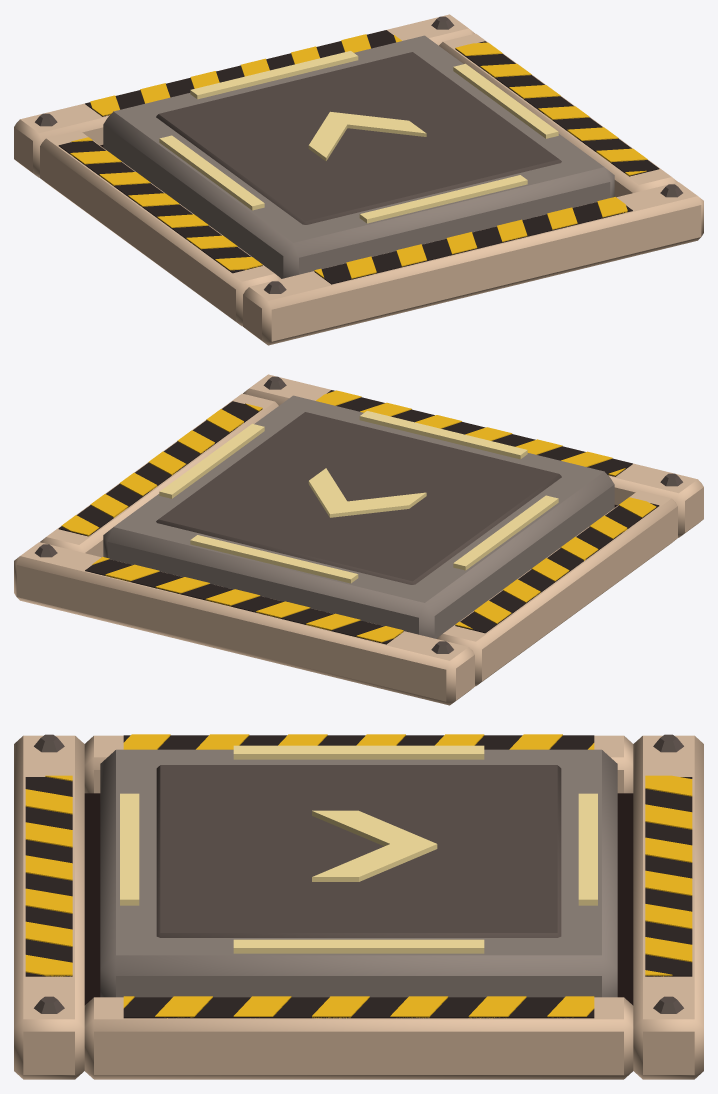
File: plate__upper.glb
3 views of the same model, one above another, from view 1: azimuth 30°, elevation 25°; view 2: azimuth 150°, elevation 25°; view 3: azimuth 270°, elevation 25° (orthographic). The views are drawn at different scales.
Visible parts, largest first — view 1: Pad, Base; view 2: Pad, Base; view 3: Pad, Base.
Boxes of the visible parts, box(x1,y1,x2,y2) form: Pad: box(103, 35, 614, 278); Base: box(14, 14, 703, 345); Pad: box(103, 395, 614, 638); Base: box(14, 374, 703, 705); Pad: box(100, 745, 617, 997); Base: box(14, 734, 703, 1079).
Size of the model in its own units: 0.88 by 0.142 by 0.88.
